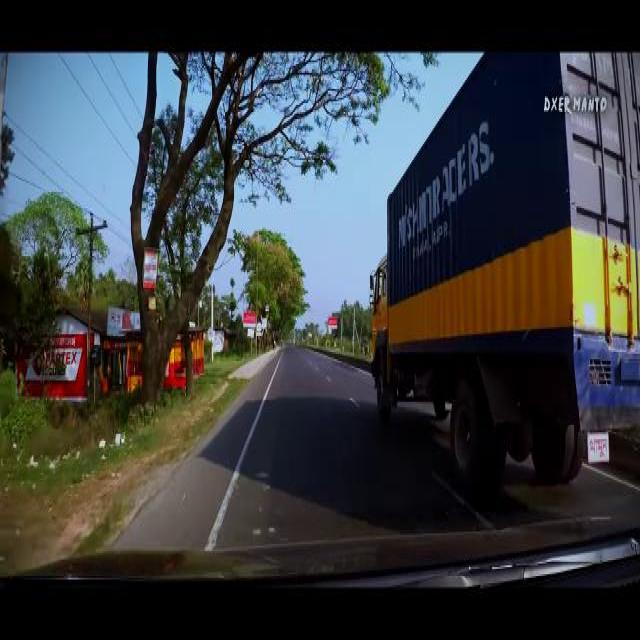truck: (368, 51, 638, 500)
